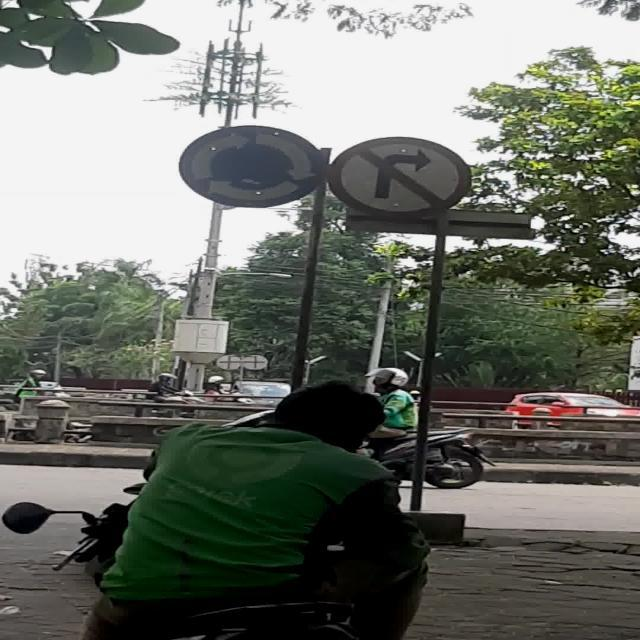Dilarang Belok Kanan: (330, 137, 470, 216)
